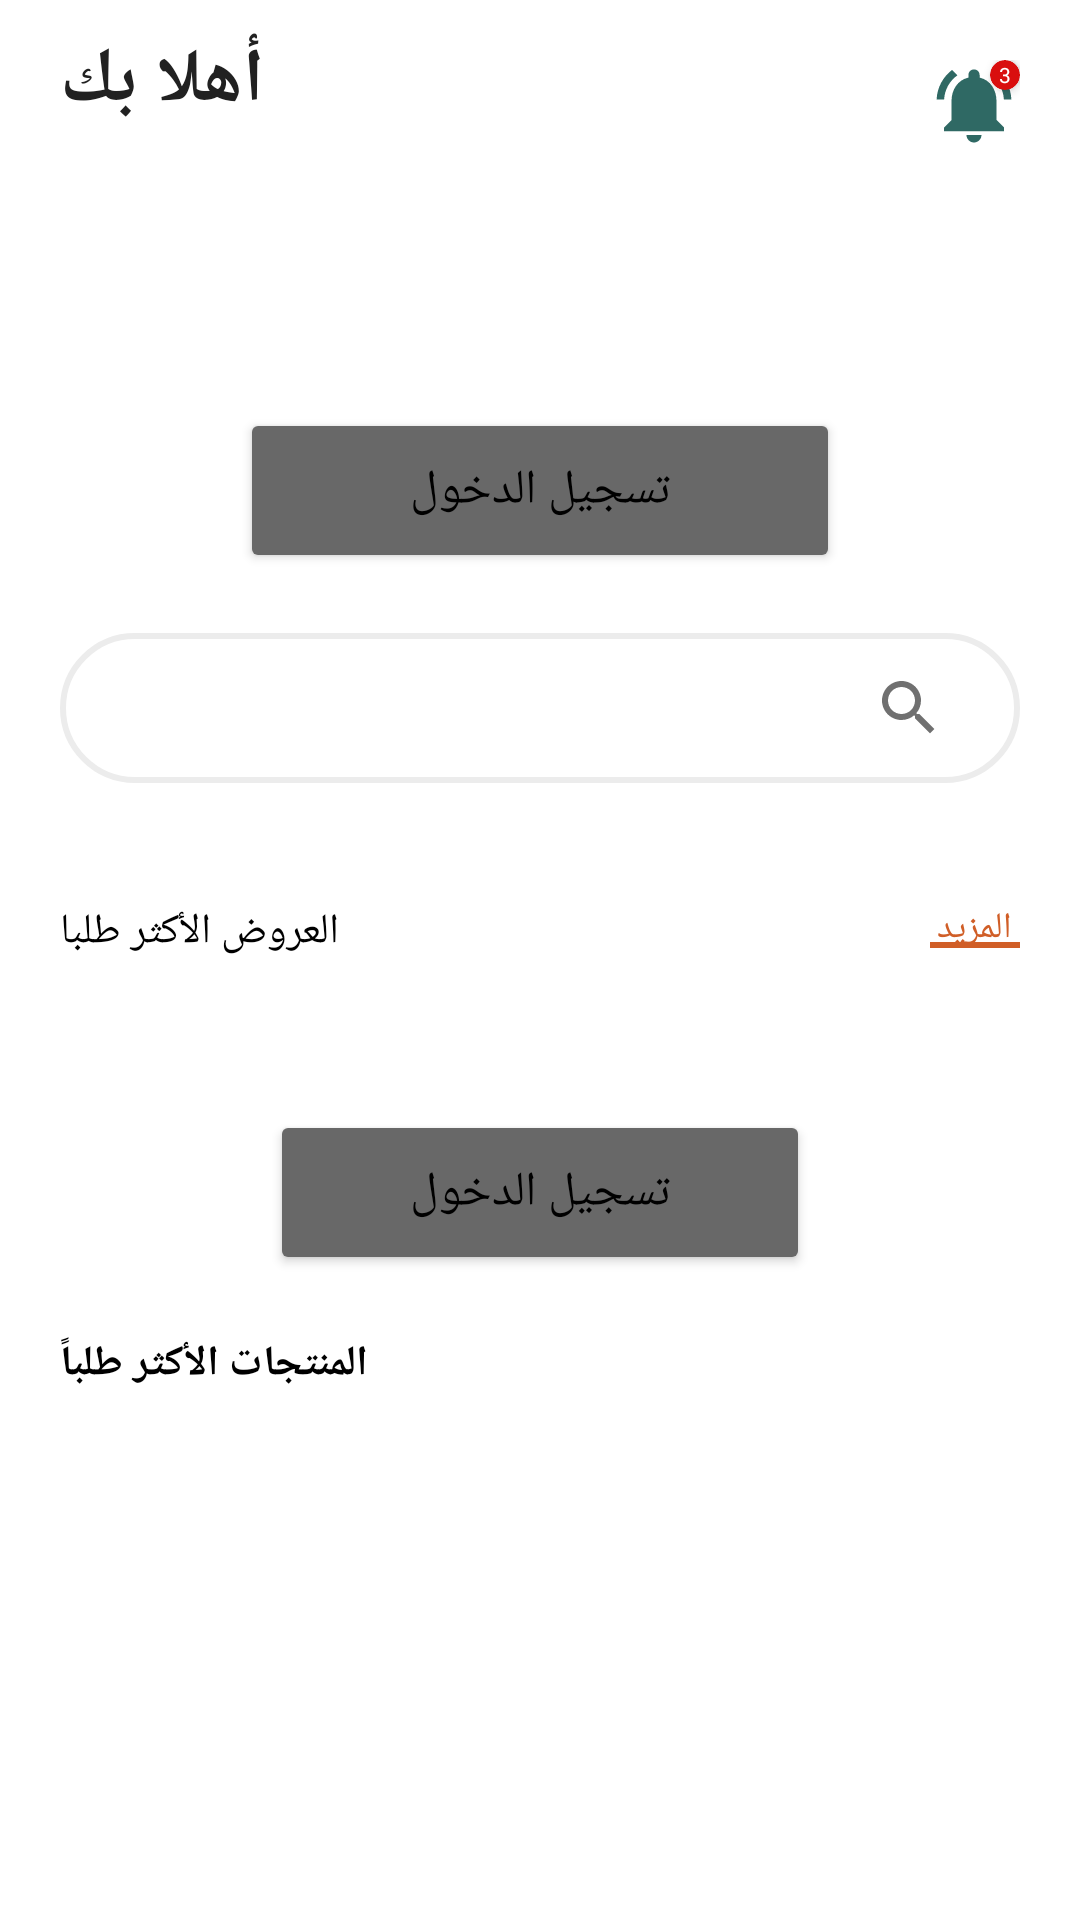

Named icons in this screenshot (1080x1920) and their bounding boxes, (x1=x1, y1=y1, x2=x2, y2=y2):
notifications: (x1=936, y1=60, x2=1019, y2=143)
